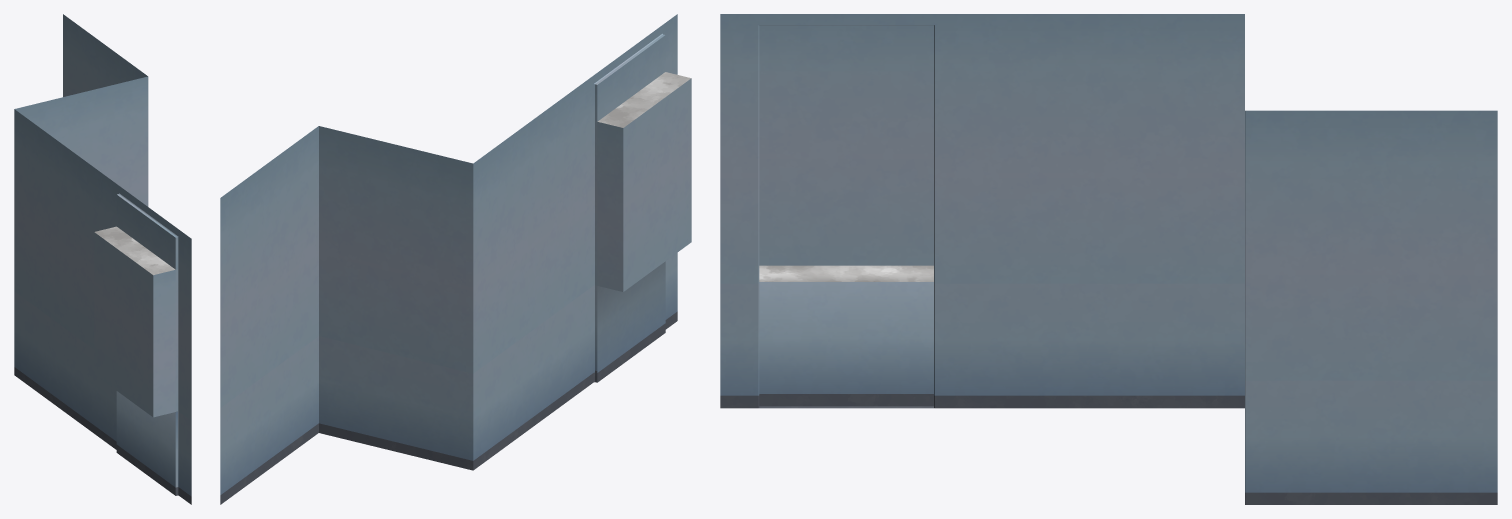
The model's file is BedWall.fbx.
3 views of the same model, side by side, from view 1: azimuth 30°, elevation 25°; view 2: azimuth 150°, elevation 25°; view 3: azimuth 270°, elevation 25° (orthographic). The views are drawn at different scales.
Parts seen in each view (by area): view 1: Floor_1:pCube98; view 2: Floor_1:pCube98; view 3: Floor_1:pCube98.
Boxes of the visible parts, box(x1,y1,x2,y2) form: Floor_1:pCube98: box(14, 14, 191, 504); Floor_1:pCube98: box(220, 14, 691, 504); Floor_1:pCube98: box(720, 14, 1497, 504).
Bounding box in the file's own units: 188 × 300 × 536.
1 material, 1 textured.
